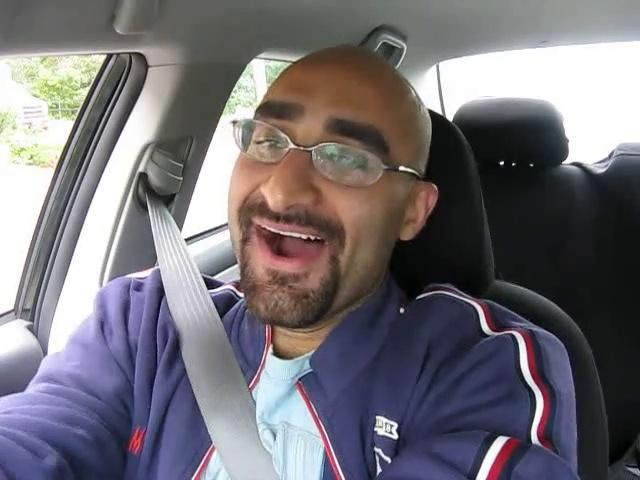open_eyeL: (238, 125, 297, 163)
open_eyeR: (307, 141, 387, 188)
yawn: (234, 206, 352, 282)
